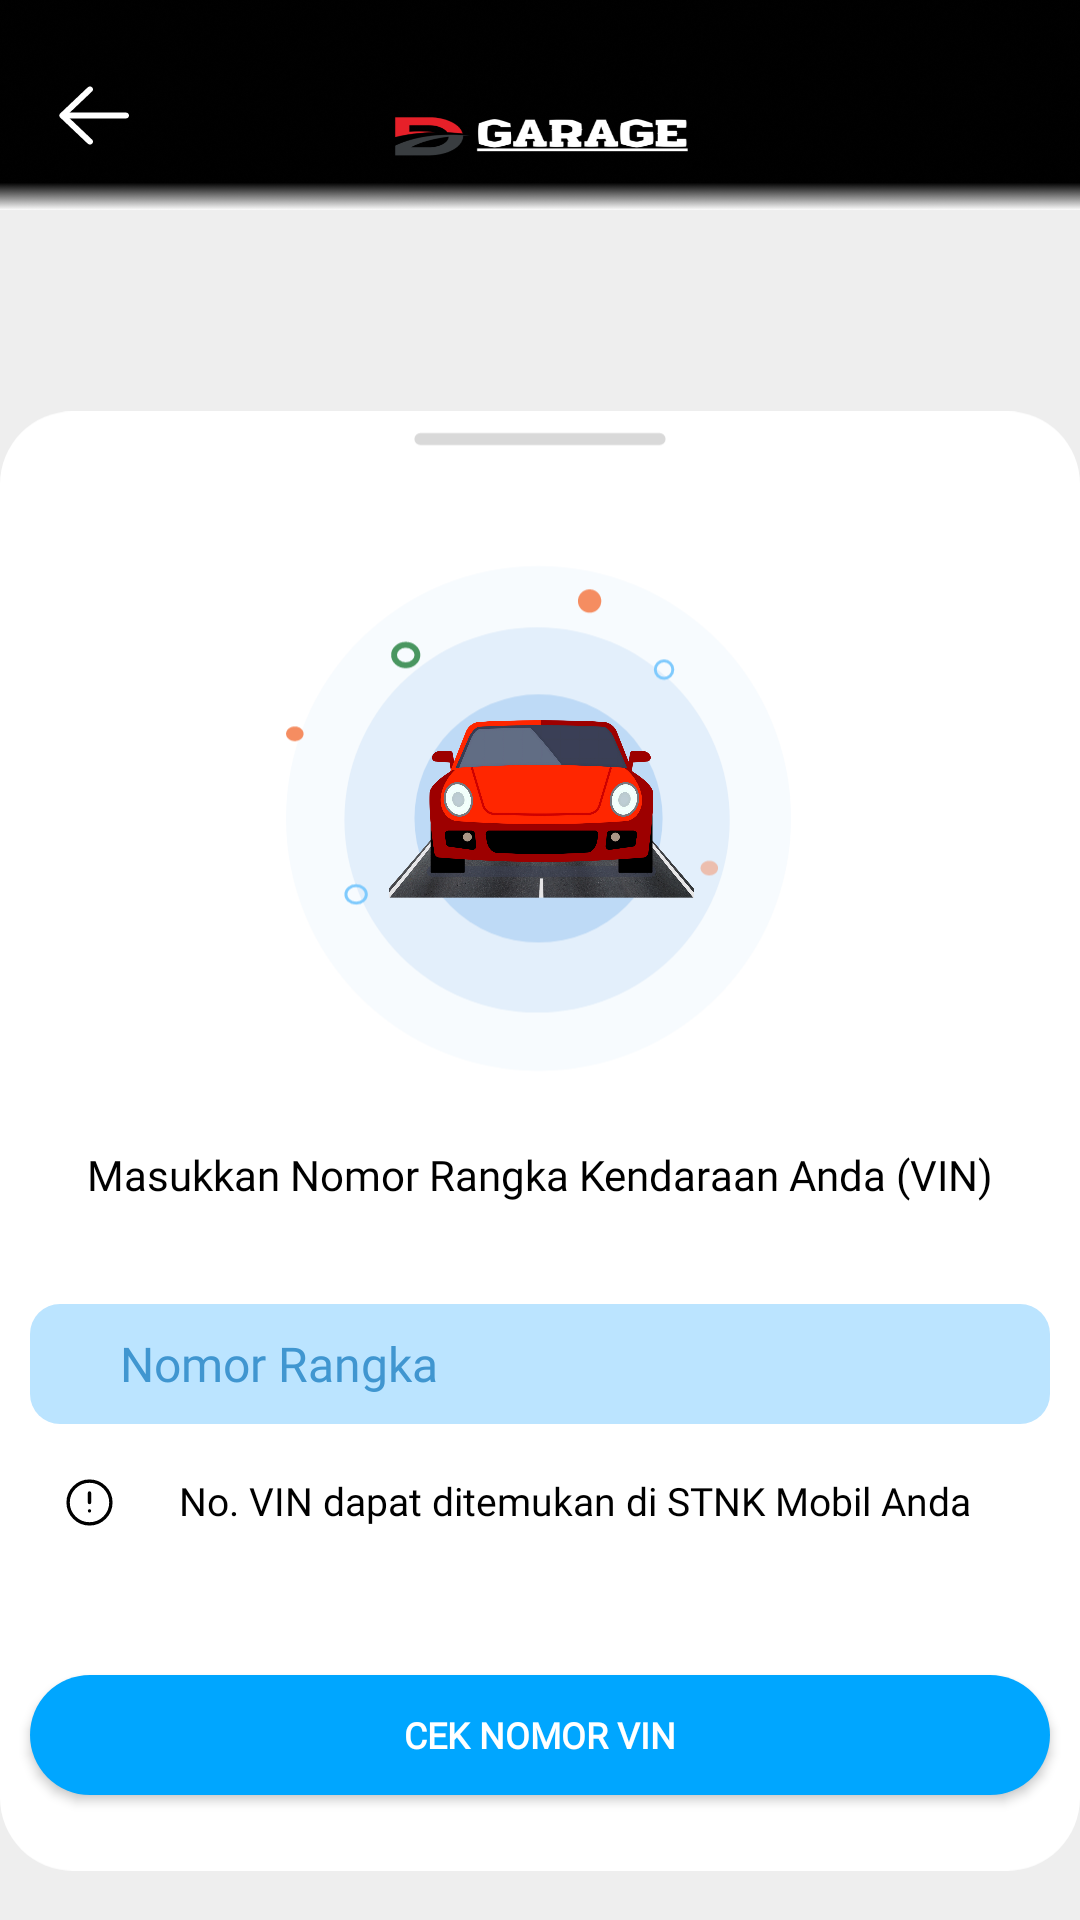

Where to tap for icons on this 1080w x 1920h app screen, as (x,y):
back: (94,115)
